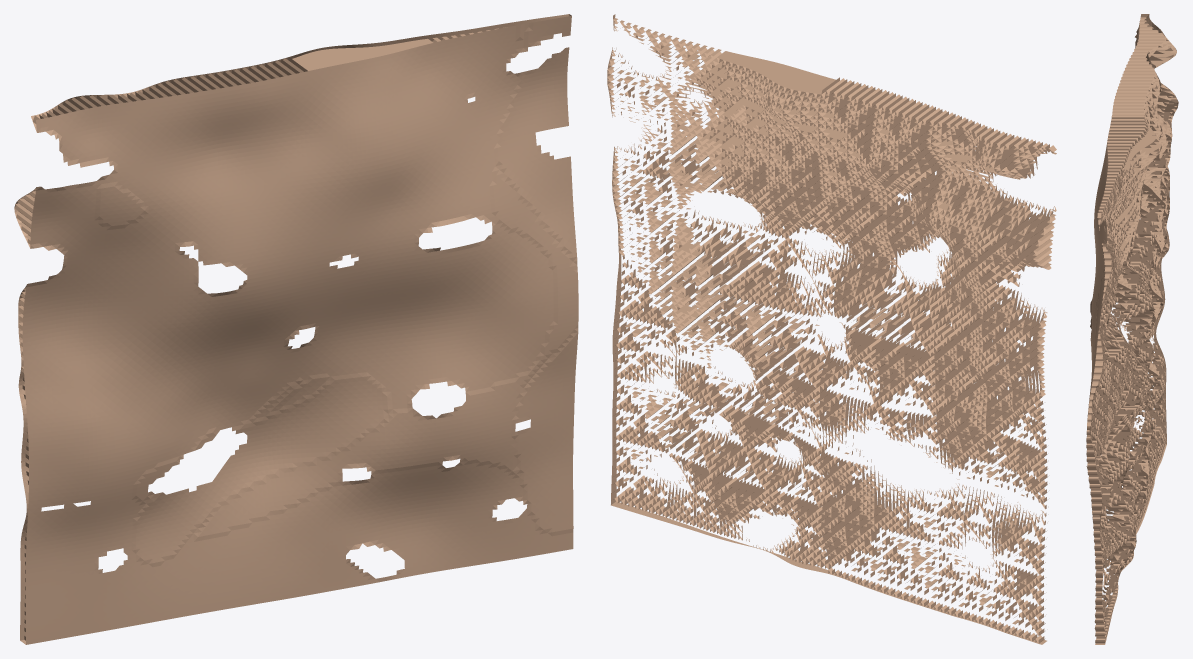
3 renders of one model, left to right at view 1: azimuth 30°, elevation 25°; view 2: azimuth 150°, elevation 25°; view 3: azimuth 270°, elevation 25°, orthographic. The views are drawn at different scales.
Parts seen in each view (by area): view 1: world; view 2: world; view 3: world.
Part boxes in pixels (left/top/right/bottom): world: left=14, top=14, right=578, bottom=644; world: left=607, top=14, right=1056, bottom=644; world: left=1086, top=14, right=1178, bottom=644.
Bounding box in the file's own units: 12800 × 12800 × 2493.
